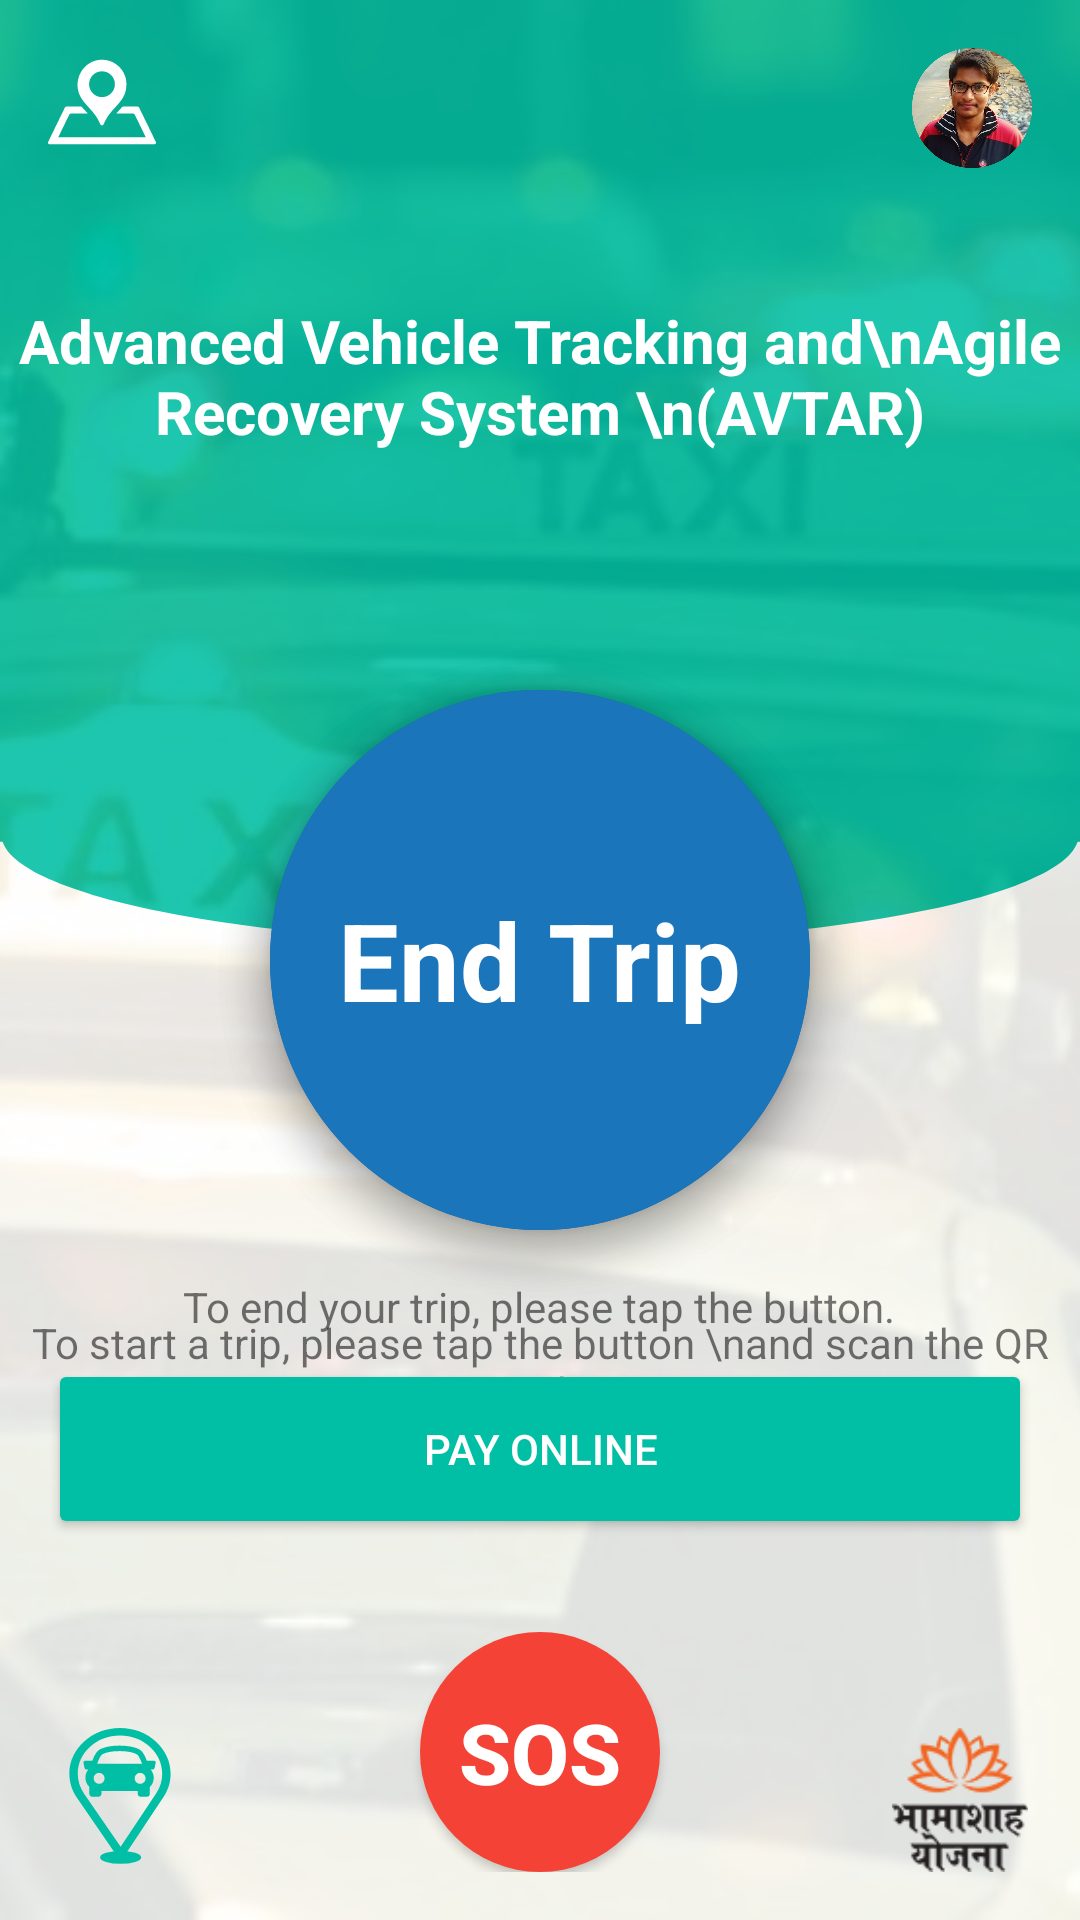

Named icons in this screenshot (1080x1920) and their bounding boxes, box=[x1, y1, x2, y2]:
map pin: box=[48, 59, 156, 145]
profile pic round: box=[912, 48, 1032, 168]
